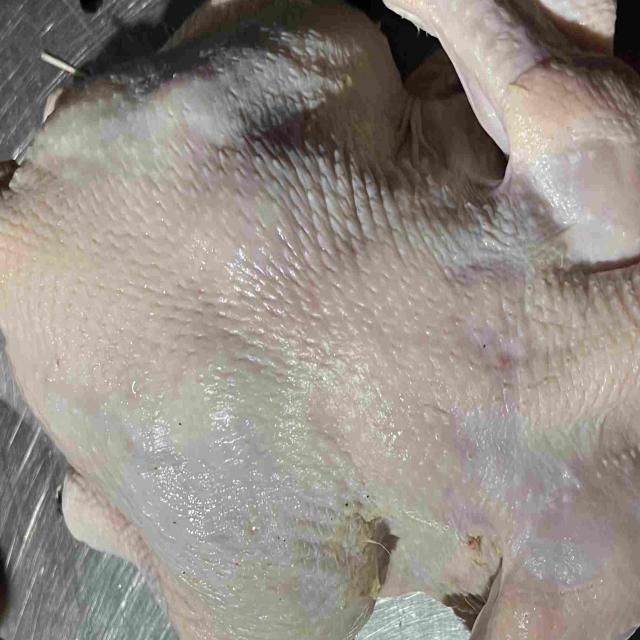back: (0, 125, 504, 519)
leg: (60, 458, 390, 640), (44, 0, 409, 159)
wing: (385, 0, 640, 268), (468, 471, 640, 640)
